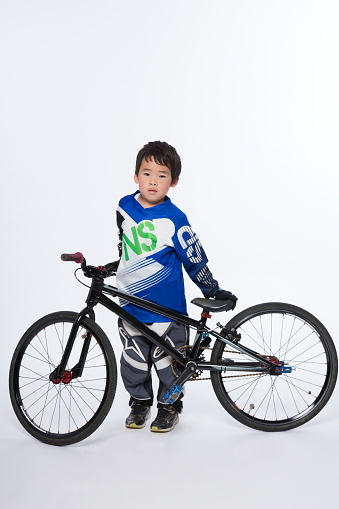em pe: (93, 138, 224, 432)
